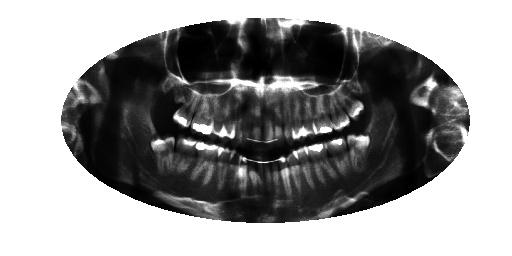i10decay: (244, 148, 259, 204)
i11chipped: (235, 146, 251, 205)
i12healthy: (227, 144, 242, 203)
i13healthy: (214, 140, 236, 194)
i14healthy: (188, 138, 224, 192)
i15healthy: (169, 136, 198, 182)
i16healthy: (148, 135, 181, 176)
i1healthy: (345, 126, 373, 174)
i1loss: (365, 122, 392, 164)
i2healthy: (322, 135, 356, 183)
i3healthy: (300, 142, 342, 186)
i4healthy: (289, 140, 320, 193)
i5healthy: (285, 147, 305, 196)
i6decay: (275, 152, 295, 201)
i7decay: (268, 155, 283, 200)
i8decay: (260, 153, 276, 199)
i9decay: (251, 151, 266, 199)
u11decay: (240, 83, 253, 144)
u12healthy: (228, 85, 244, 143)
u13healthy: (221, 83, 237, 143)
u14healthy: (208, 85, 227, 144)
u15healthy: (191, 86, 216, 142)
u16healthy: (170, 82, 198, 130)
u1healthy: (332, 84, 369, 123)
u2healthy: (324, 90, 351, 134)
u3healthy: (311, 93, 337, 135)
u4healthy: (299, 92, 316, 140)
u5healthy: (289, 91, 308, 142)
u6healthy: (280, 85, 297, 142)
u7healthy: (270, 85, 287, 143)
u8healthy: (262, 86, 277, 144)
u9healthy: (248, 85, 264, 145)
